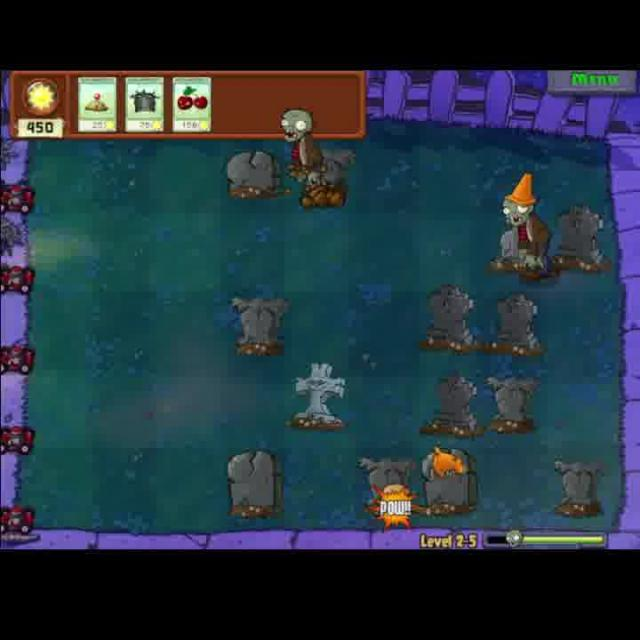coins: (492, 165, 554, 278), (276, 108, 332, 208)
